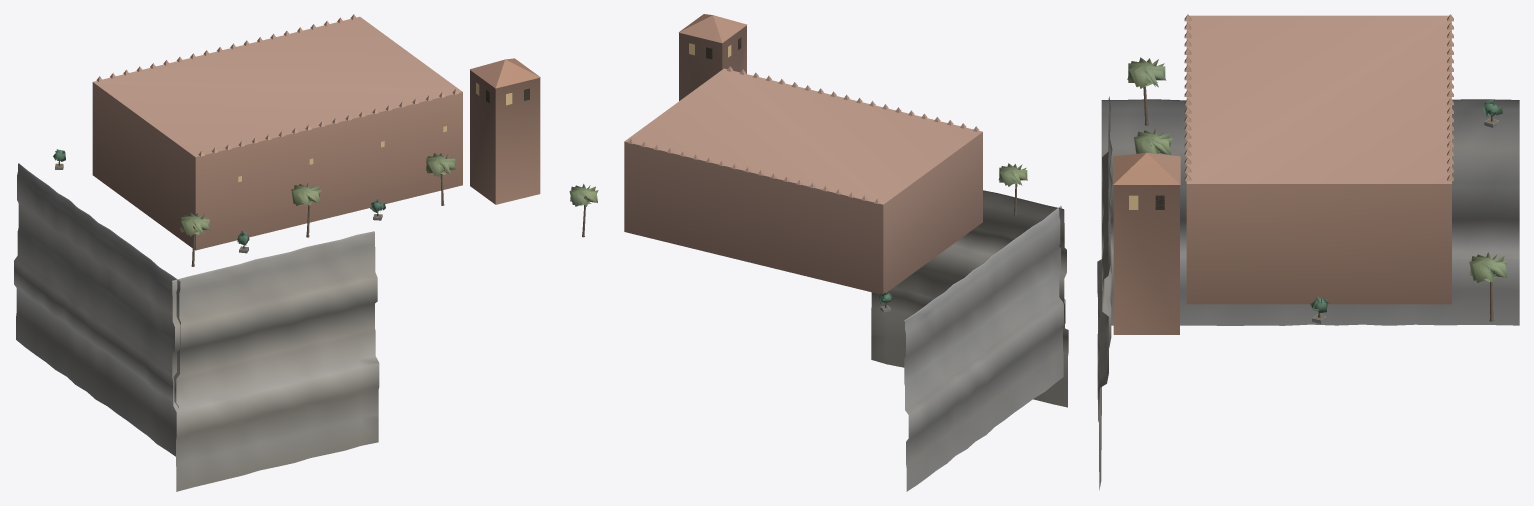
File: palace.glb
3 views of the same model, side by side, from view 1: azimuth 30°, elevation 25°; view 2: azimuth 150°, elevation 25°; view 3: azimuth 270°, elevation 25° (orthographic). The views are drawn at different scales.
Visible parts, largest first — view 1: mass_palace.001, palace_scarp_s, palace_scarp_w, mass_mirador.001, palm_date.003, palm_date.001, palm_date.002; view 2: mass_palace.001, palace_scarp_w, palace_scarp_s, mass_mirador.001, palm_date.001, palm_date.004; view 3: mass_palace.001, palace_scarp_w, mass_mirador.001, palace_scarp_s, palm_date.001, palm_date.004, palm_date.002.
Part boxes in pixels (x1,y1,x2,y2): mass_palace.001: (92,14,462,250); palace_scarp_s: (172,231,379,491); palace_scarp_w: (14,163,180,456); mass_mirador.001: (470,58,540,204); palm_date.003: (426,153,455,205); palm_date.001: (180,212,209,266); palm_date.002: (291,183,321,237); mass_palace.001: (624,66,982,294); palace_scarp_w: (904,206,1065,491); palace_scarp_s: (871,190,1068,407); mass_mirador.001: (678,14,747,100); palm_date.001: (998,163,1027,215); palm_date.004: (569,184,598,237); mass_palace.001: (1184,14,1453,304); palace_scarp_w: (1101,99,1519,325); mass_mirador.001: (1113,152,1180,334); palace_scarp_s: (1097,96,1112,490); palm_date.001: (1127,57,1166,125); palm_date.004: (1469,252,1507,321); palm_date.002: (1134,129,1172,155).
Bounding box in the file's own units: 83.18 × 71.6 × 63.67.
